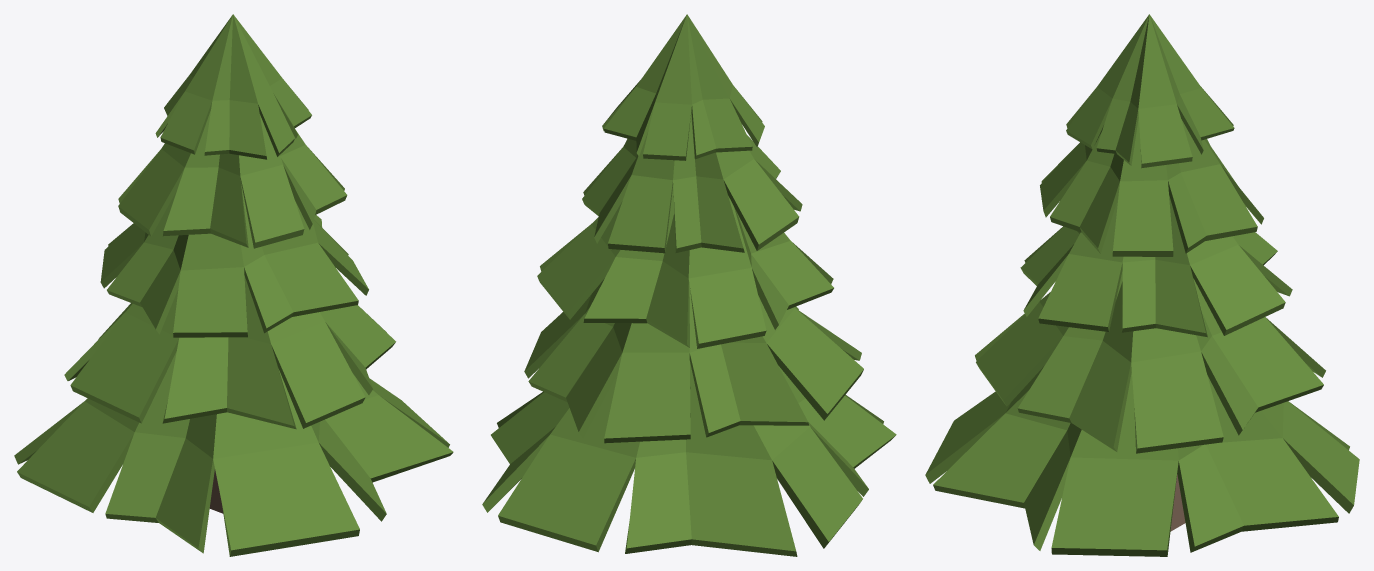
File: spruce_1.obj
The picture shows the model from 3 angles, left to right: view 1: azimuth 30°, elevation 25°; view 2: azimuth 150°, elevation 25°; view 3: azimuth 270°, elevation 25°; orthographic projection. The views are drawn at different scales.
Visible parts, largest first — view 1: spruce_1_Cylinder.001; view 2: spruce_1_Cylinder.001; view 3: spruce_1_Cylinder.001.
Boxes of the visible parts, <box> form: spruce_1_Cylinder.001: <box>14,14,453,556</box>; spruce_1_Cylinder.001: <box>482,14,896,556</box>; spruce_1_Cylinder.001: <box>925,14,1359,556</box>.
Bounding box in the file's own units: 5.33 × 7 × 5.51.
Materials: 1 (1 with a texture image).
